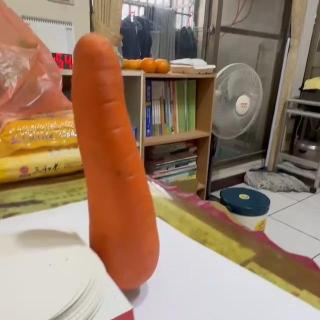carrot: (70, 34, 162, 292)
